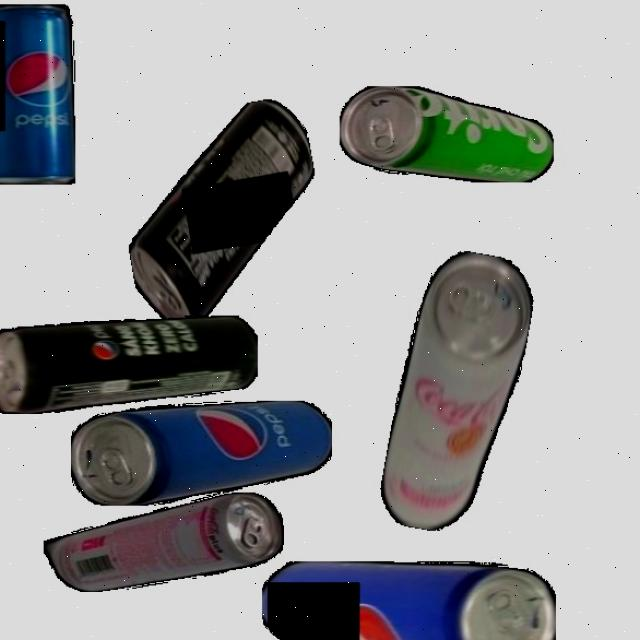debris: (108, 94, 338, 338), (376, 244, 540, 540), (71, 400, 332, 506), (0, 316, 258, 414), (43, 491, 284, 592), (261, 561, 556, 640), (340, 86, 554, 182), (0, 4, 75, 184)
